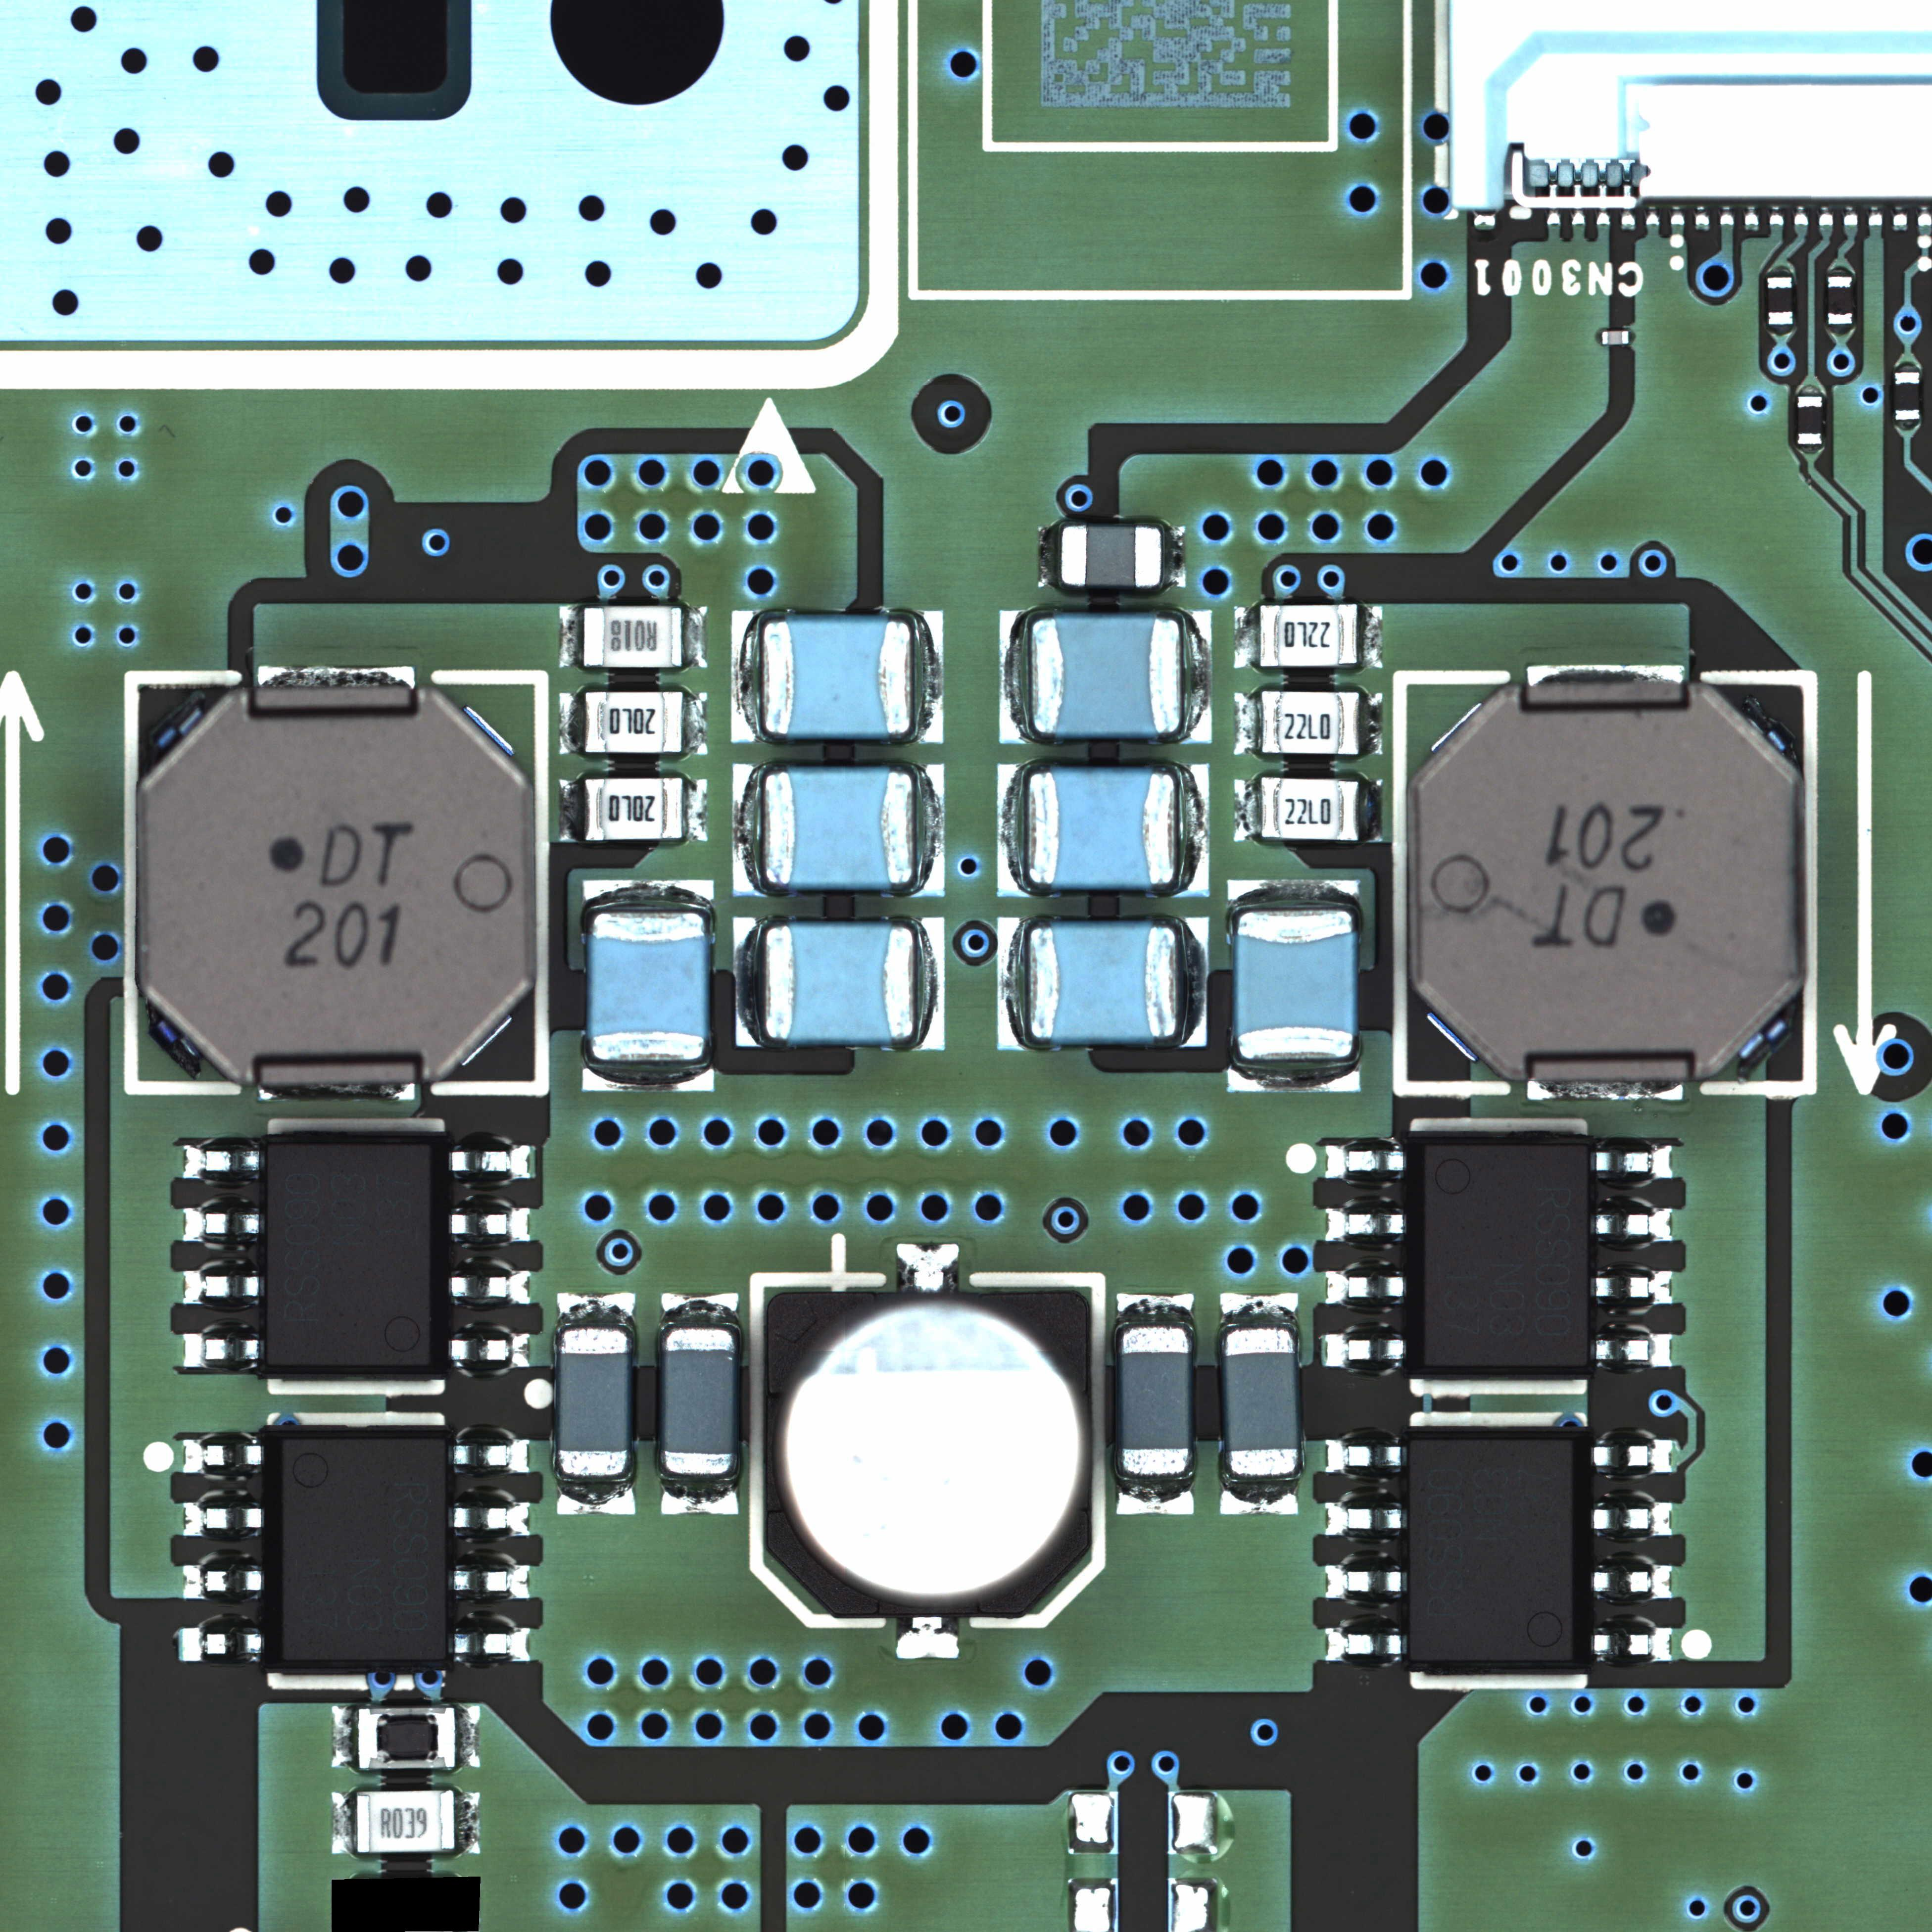Package: (1408, 687, 1807, 1079), (137, 690, 535, 1080), (766, 1286, 1096, 1620), (265, 1431, 452, 1670), (265, 1140, 447, 1373), (1409, 1435, 1590, 1669), (1411, 1140, 1590, 1373), (1233, 911, 1356, 1062), (1031, 617, 1182, 736), (765, 925, 914, 1043), (764, 771, 914, 888), (589, 913, 707, 1061), (1029, 771, 1176, 888), (1031, 924, 1177, 1042), (763, 621, 911, 736), (662, 1330, 737, 1475), (1224, 1328, 1298, 1475), (558, 1329, 630, 1476), (1120, 1328, 1191, 1475), (1261, 775, 1359, 839), (1061, 527, 1163, 588), (1262, 690, 1359, 754), (1260, 605, 1358, 667), (584, 778, 683, 839), (357, 1792, 455, 1852), (583, 608, 683, 667), (584, 693, 681, 752), (358, 1710, 456, 1768), (1797, 396, 1824, 444), (1828, 277, 1854, 324), (1895, 372, 1920, 420), (1768, 277, 1793, 325), (1602, 332, 1629, 344)
Solder: (997, 916, 1030, 1052), (999, 610, 1031, 744), (1177, 764, 1209, 897), (1227, 878, 1360, 910), (997, 764, 1028, 897), (1182, 609, 1213, 744), (582, 880, 715, 911), (1226, 1063, 1361, 1092), (581, 1063, 715, 1093), (1179, 916, 1208, 1047), (732, 764, 762, 896), (256, 666, 415, 689), (731, 611, 760, 743), (1526, 661, 1685, 685), (258, 1083, 416, 1106), (918, 918, 945, 1051), (918, 766, 945, 895), (918, 612, 944, 742), (735, 917, 761, 1047), (1526, 1082, 1684, 1103), (179, 1624, 263, 1662), (556, 1477, 636, 1516), (1220, 1477, 1299, 1515), (661, 1478, 739, 1515), (182, 1563, 264, 1598), (661, 1294, 741, 1329), (1592, 1564, 1672, 1598), (897, 1245, 958, 1290), (1220, 1294, 1298, 1329), (183, 1502, 264, 1536), (1592, 1627, 1672, 1660), (183, 1439, 263, 1473), (558, 1294, 635, 1329), (1593, 1501, 1673, 1535), (450, 1208, 531, 1241), (1325, 1564, 1403, 1598), (1116, 1294, 1195, 1328), (1593, 1440, 1674, 1472), (450, 1271, 530, 1304), (449, 1334, 529, 1366), (1324, 1335, 1405, 1367), (453, 1564, 530, 1598), (1595, 1207, 1672, 1241), (184, 1333, 260, 1367), (1325, 1145, 1405, 1177), (896, 1617, 958, 1659), (1594, 1270, 1673, 1303), (184, 1146, 260, 1178), (184, 1208, 260, 1241), (1594, 1146, 1672, 1177), (454, 1502, 530, 1535), (1326, 1209, 1405, 1240), (1326, 1628, 1402, 1659), (1325, 1273, 1405, 1303), (1594, 1334, 1673, 1365), (453, 1629, 530, 1660), (450, 1147, 530, 1177), (454, 1441, 531, 1471), (183, 1271, 260, 1301), (1326, 1503, 1402, 1534), (1326, 1442, 1402, 1471), (1116, 1489, 1194, 1516), (1234, 693, 1262, 756), (1234, 779, 1260, 841), (559, 780, 583, 843), (559, 693, 583, 755), (1234, 607, 1259, 669), (456, 1706, 481, 1768), (683, 778, 707, 841), (683, 607, 707, 668), (456, 1793, 480, 1853), (559, 606, 582, 668), (333, 1707, 356, 1768), (1359, 605, 1382, 668), (1163, 527, 1187, 588), (683, 695, 707, 755), (1038, 526, 1061, 588), (1360, 780, 1383, 842), (1360, 693, 1383, 756), (333, 1793, 355, 1854), (917, 701, 943, 743), (1766, 267, 1793, 277), (1796, 444, 1824, 454), (1895, 419, 1922, 429), (1797, 387, 1824, 396), (1895, 363, 1921, 372), (1767, 326, 1794, 334), (1828, 325, 1855, 333), (1828, 267, 1855, 276), (1629, 330, 1634, 345), (1597, 331, 1602, 345)
